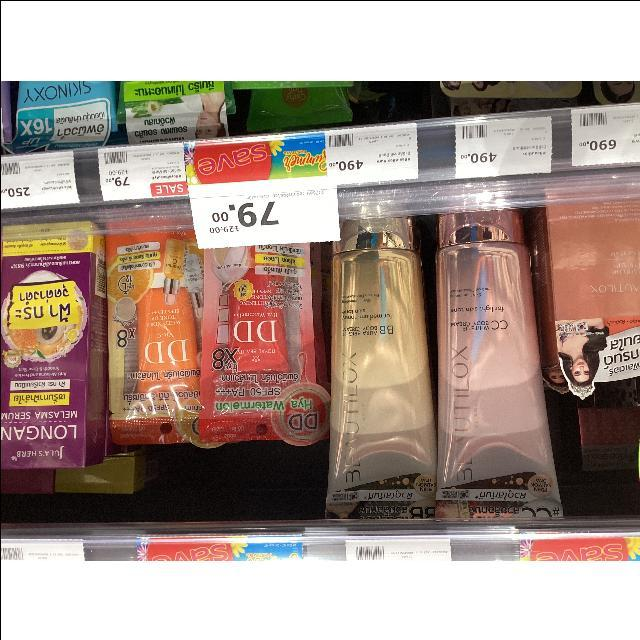Squeeze Tube: (0, 180, 640, 536), (433, 205, 586, 532), (322, 212, 437, 539)
